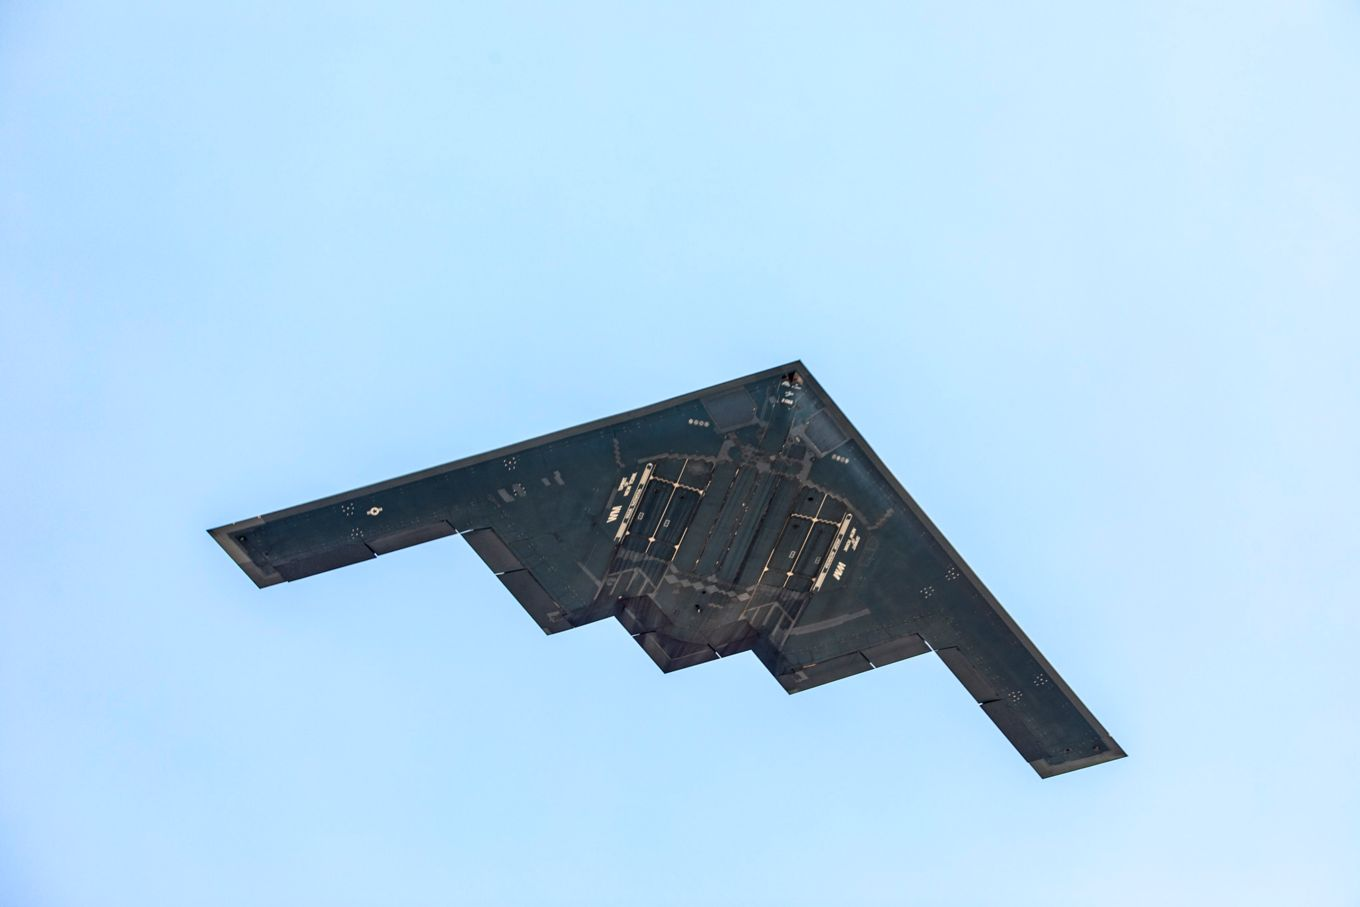B2: (206, 358, 1129, 780)
